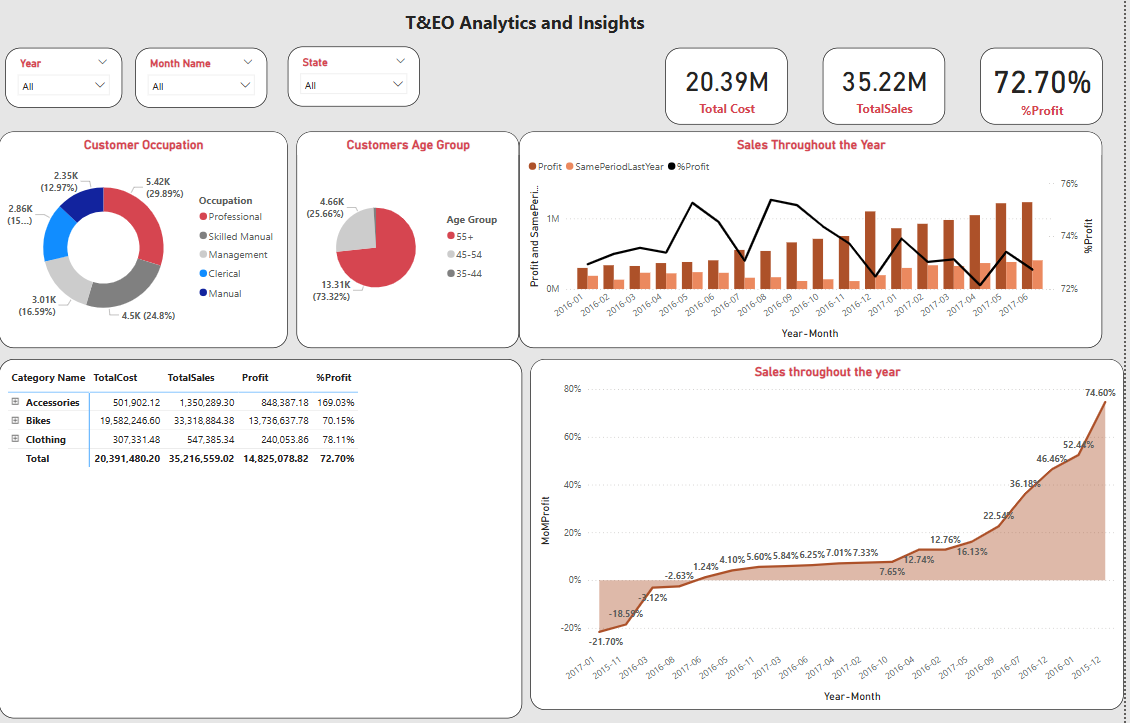

The page's visual inventory and layout, read from the dashboard file:
{"tool":"powerbi","page":{"name":"Dashboard","canvas":[1500,1000],"ordinal":0},"visuals":[{"type":"slicer","title":"Select Year","fields":{"Values":["DateTable.Year"]},"box":[8.8,65.2,155.6,79.8],"z":0},{"type":"slicer","fields":{"Values":["DateTable.Month Name"]},"box":[180.9,65.2,176,79.8],"z":1000},{"type":"areaChart","title":"Sales throughout the year","fields":{"Category":["DateTable.Year-Month"],"Y":["All Measures.MoMProfit"]},"box":[708.7,480.7,791.3,468.4],"z":2000},{"type":"card","fields":{"Values":["All Measures.%Profit"]},"box":[1308,65.3,163.4,102.1],"z":3000},{"type":"donutChart","title":"Customer Occupation","fields":{"Category":["Customers.Occupation"],"Y":["CountNonNull(Customers.CustomerKey)"]},"box":[0,176.3,384.6,288.4],"z":4000},{"type":"card","fields":{"Values":["All Measures.TotalSales"]},"box":[1097.9,65.3,163,102.1],"z":5000},{"type":"card","fields":{"Values":["All Measures.TotalCost"]},"box":[887.8,65.3,163,102.1],"z":6000},{"type":"pieChart","title":"Customers Age Group","fields":{"Category":["Customers.AgeGroup"],"Y":["Count(Customers.CustomerKey)"]},"box":[396.9,176.3,297,288.4],"z":7000},{"type":"pivotTable","title":"Profit Comparison","fields":{"Rows":["Products.Category Name","Products.Sub Category Name","Products.ModelName","Products.ProductName"],"Values":["All Measures.TotalCost","All Measures.TotalSales","All Measures.Profit","All Measures.%Profit"]},"box":[0,480.7,697.6,479.5],"z":8000},{"type":"textbox","box":[488,9.7,418.9,46.9],"z":9000},{"type":"slicer","fields":{"Values":["Total Sales.State"]},"box":[384.6,64.1,176.3,80.1],"z":10000},{"type":"lineClusteredColumnComboChart","title":"Sales Throughout the Year","fields":{"Category":["DateTable.Year-Month"],"Y":["All Measures.Profit","All Measures.SamePeriodLastYear"],"Y2":["All Measures.%Profit"]},"box":[693.9,176.3,777.7,288.4],"z":11000}]}

Visuals, with their boxes in screenshot pixels (x1, y1, x2, y2):
"Select Year" slicer: region(12, 48, 128, 107)
slicer - DateTable.Month Name: region(140, 48, 270, 107)
"Sales throughout the year" areaChart: region(530, 356, 1116, 702)
card - All Measures.%Profit: region(974, 48, 1095, 124)
"Customer Occupation" donutChart: region(6, 130, 291, 344)
card - All Measures.TotalSales: region(818, 48, 939, 124)
card - All Measures.TotalCost: region(663, 48, 784, 124)
"Customers Age Group" pieChart: region(300, 130, 519, 344)
"Profit Comparison" pivotTable: region(6, 356, 522, 711)
textbox: region(367, 7, 677, 42)
slicer - Total Sales.State: region(291, 47, 421, 107)
"Sales Throughout the Year" lineClusteredColumnComboChart: region(519, 130, 1095, 344)
